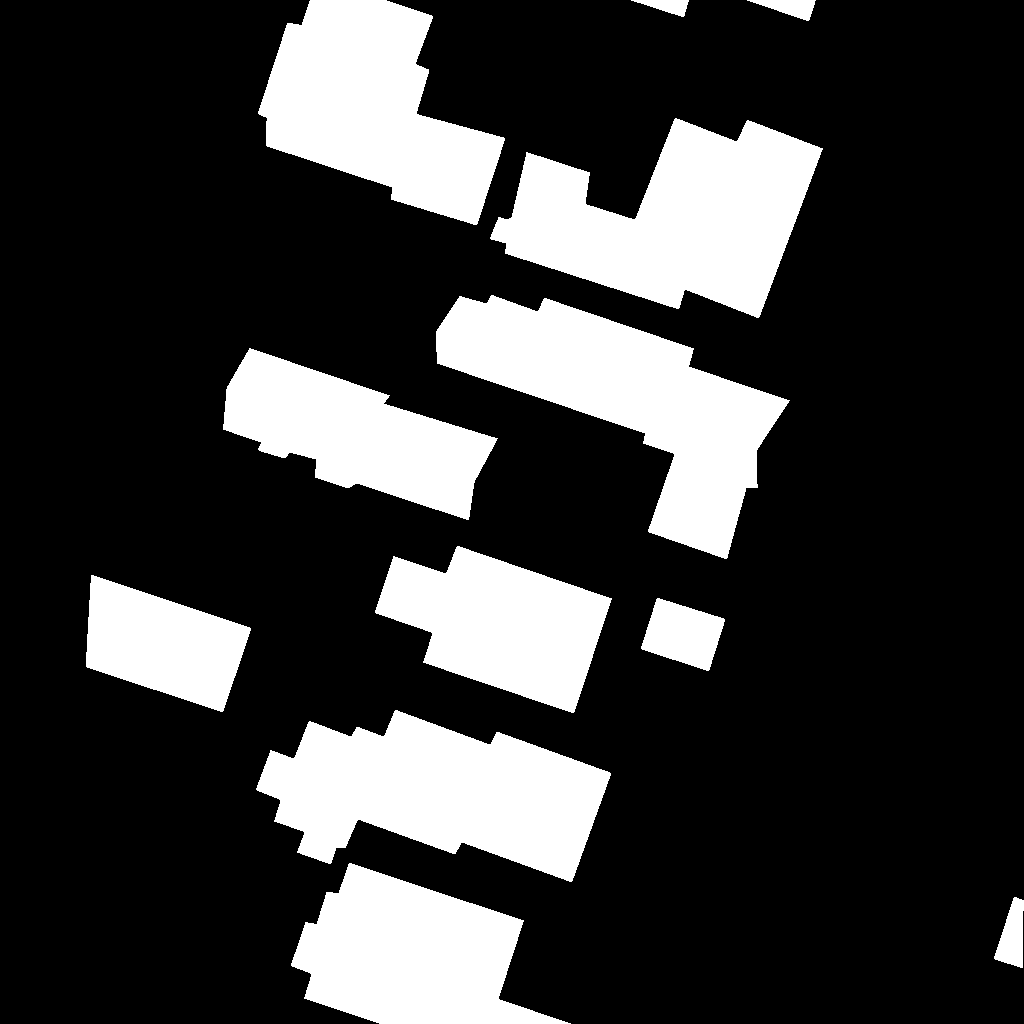building: (436, 295, 791, 560), (490, 118, 824, 319), (256, 710, 612, 883), (258, 0, 506, 226), (223, 347, 499, 521), (291, 863, 572, 1024), (375, 546, 613, 714), (86, 575, 252, 713), (641, 598, 726, 672), (630, 0, 817, 22), (994, 897, 1024, 969)
